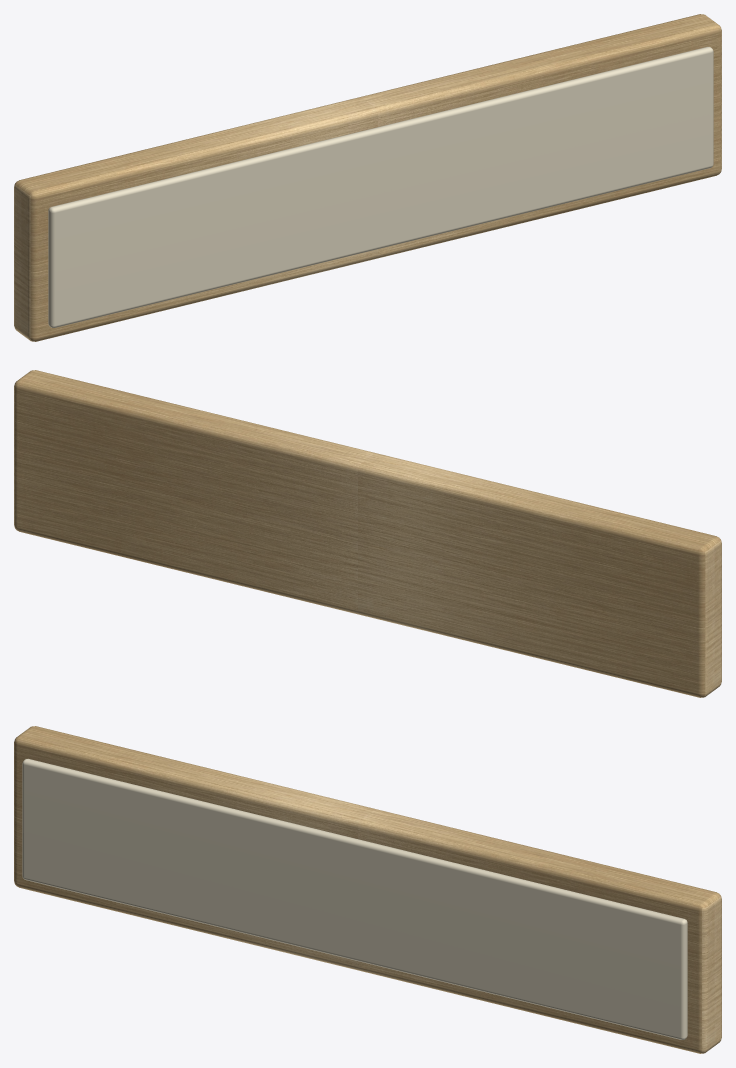
File: sign.glb
3 views of the same model, one above another, from view 1: azimuth 30°, elevation 25°; view 2: azimuth 150°, elevation 25°; view 3: azimuth 330°, elevation 25° (orthographic).
Visible parts, largest first — view 1: sign; view 2: sign; view 3: sign.
Boxes of the visible parts, box(x1,y1,x2,y2) form: sign: box(14, 14, 721, 341); sign: box(14, 370, 721, 697); sign: box(14, 726, 721, 1053).
Size of the model in its own units: 2.78 by 0.58 by 0.1775.
2 materials, 1 textured.
